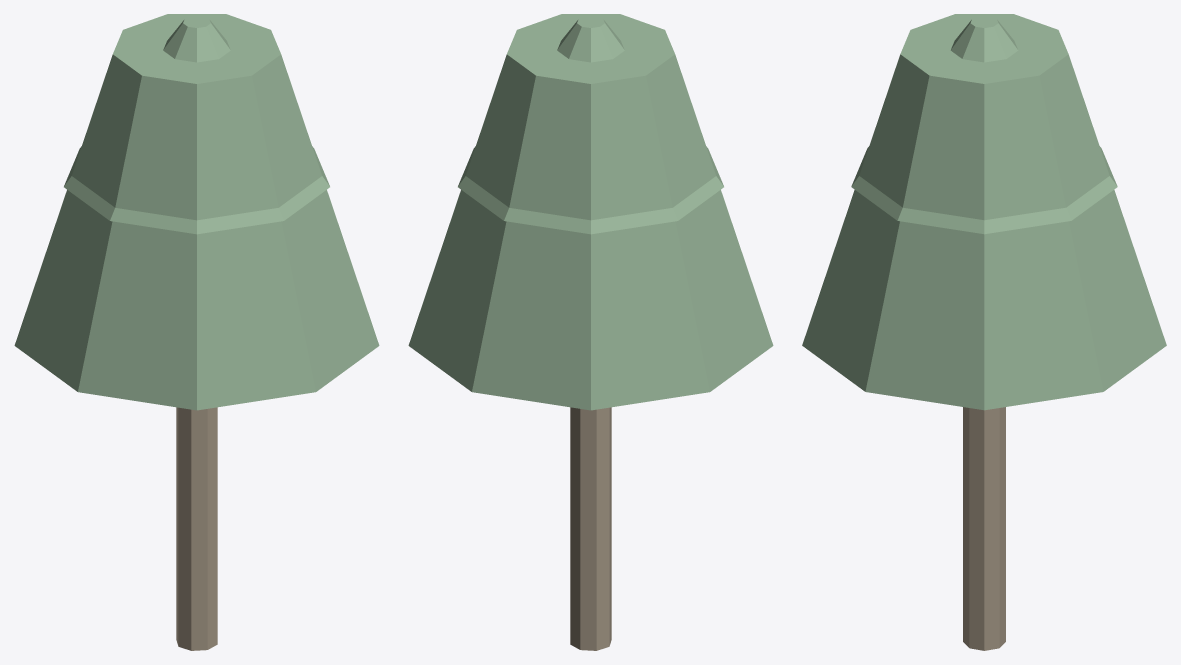
Rendered from remaster_tree.glb.
3 views of the same model, side by side, from view 1: azimuth 30°, elevation 25°; view 2: azimuth 150°, elevation 25°; view 3: azimuth 270°, elevation 25° (orthographic).
Visible parts, largest first — view 1: remaster_tree leaf, remaster_tree bark; view 2: remaster_tree leaf, remaster_tree bark; view 3: remaster_tree leaf, remaster_tree bark.
Part boxes in pixels (x1,y1,x2,y2): remaster_tree leaf: (14, 14, 379, 410); remaster_tree bark: (176, 407, 217, 650); remaster_tree leaf: (408, 14, 773, 410); remaster_tree bark: (570, 407, 611, 650); remaster_tree leaf: (802, 14, 1166, 410); remaster_tree bark: (963, 407, 1005, 650).
Bounding box in the file's own units: 2.52 × 4.8 × 2.56.
